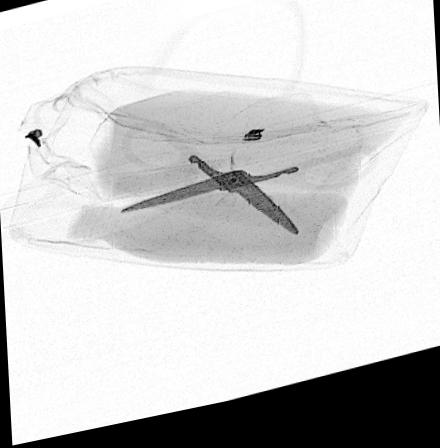Scissors: (116, 122, 381, 248)
